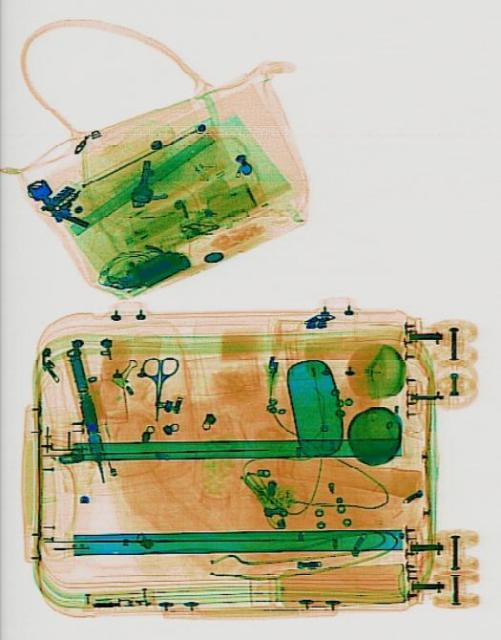Scissors: (137, 356, 177, 420)
